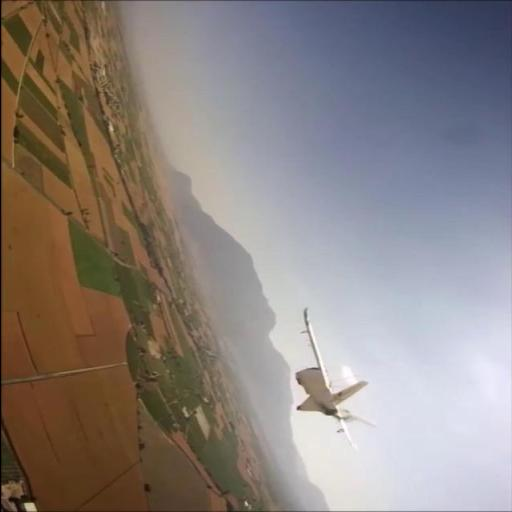uav: (293, 309, 377, 449)
